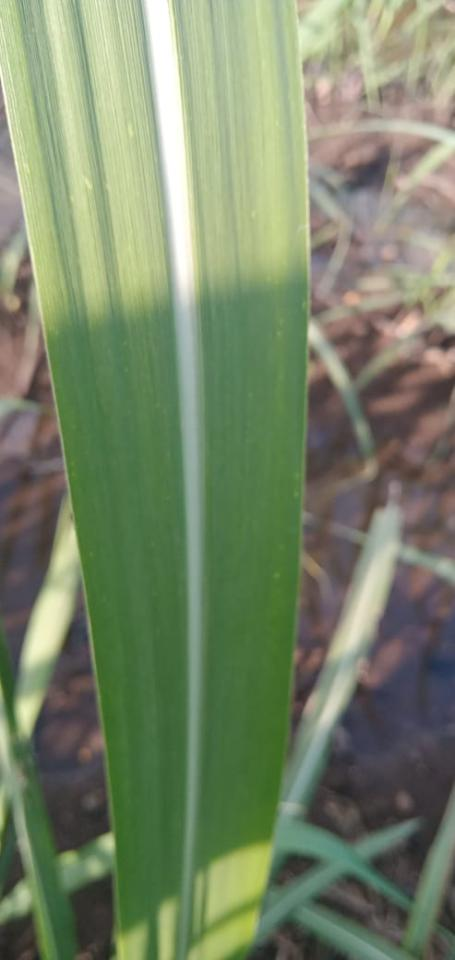Healthy: (0, 0, 190, 959), (170, 0, 308, 959)
